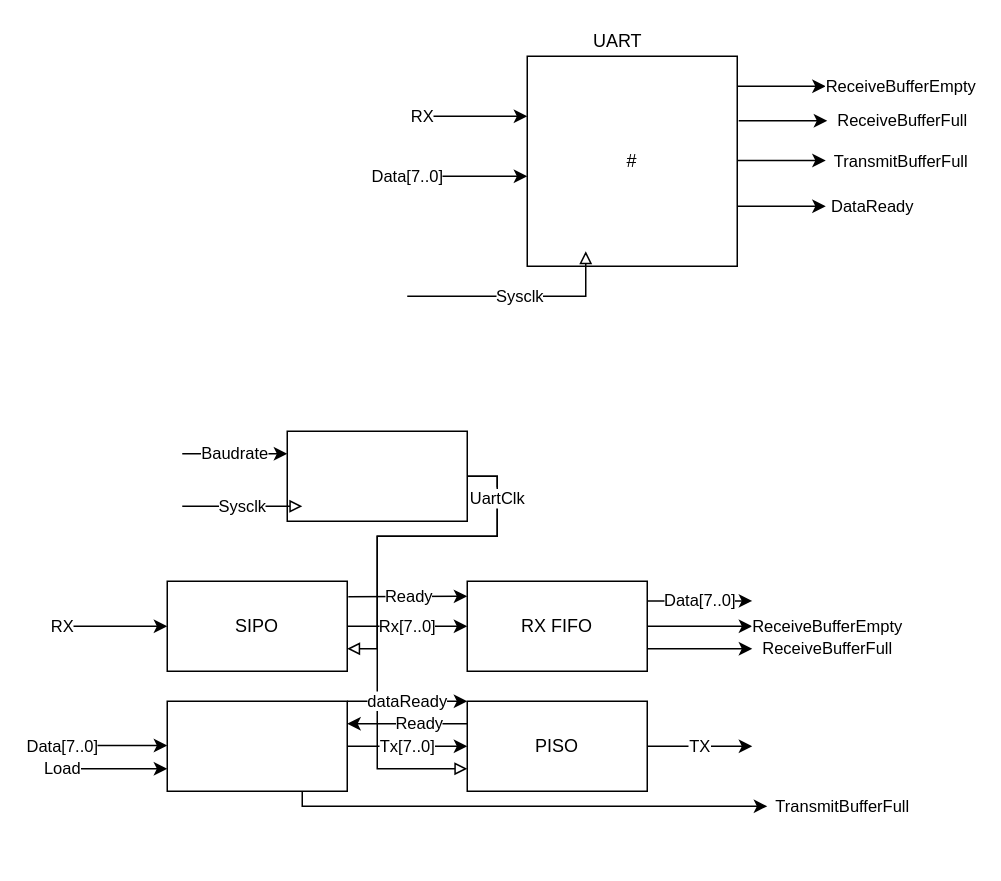
The diagram is 1001 pixels wide and 881 high, and some of its shapes have lost their labels. The shapes that lost their labels are listed below. From the top down, each one's centre as x and y in pixels, then its label:
At point (376, 475): "Baud setting".
At point (256, 745): "TX FIFO".
